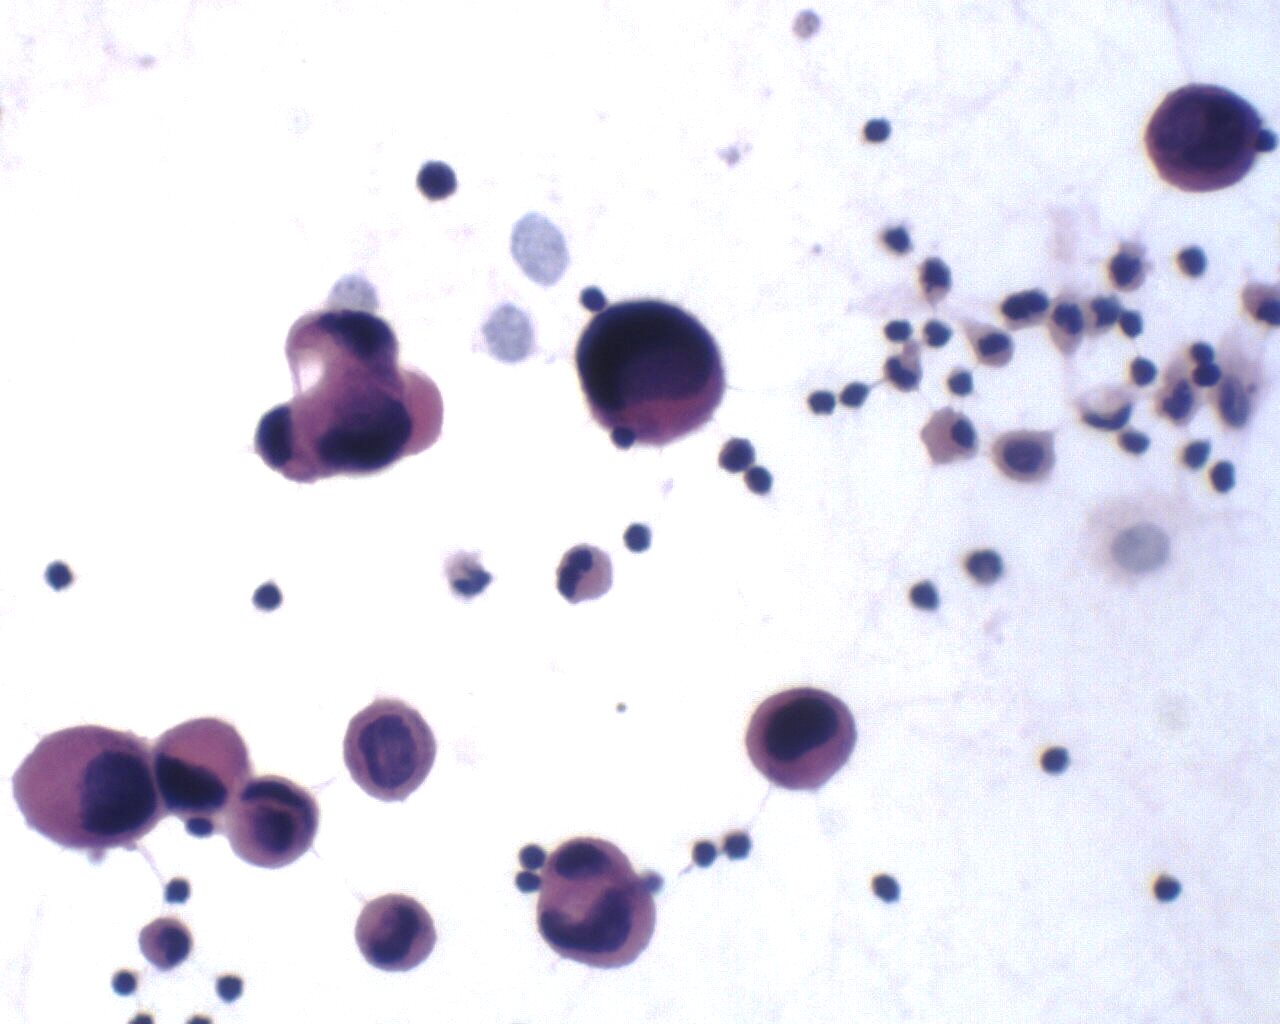ab: (11, 711, 167, 870), (573, 297, 734, 449), (1144, 77, 1265, 193), (745, 682, 864, 795), (157, 706, 252, 824), (338, 694, 440, 802), (345, 888, 443, 984)
lymph: (209, 963, 252, 1013), (616, 517, 665, 560), (247, 579, 295, 622), (38, 556, 82, 599), (1033, 745, 1077, 785), (859, 111, 899, 152), (1150, 868, 1187, 909), (104, 968, 145, 1002), (1117, 424, 1151, 460), (686, 838, 722, 871)
meso: (920, 404, 982, 470), (988, 427, 1060, 485)
